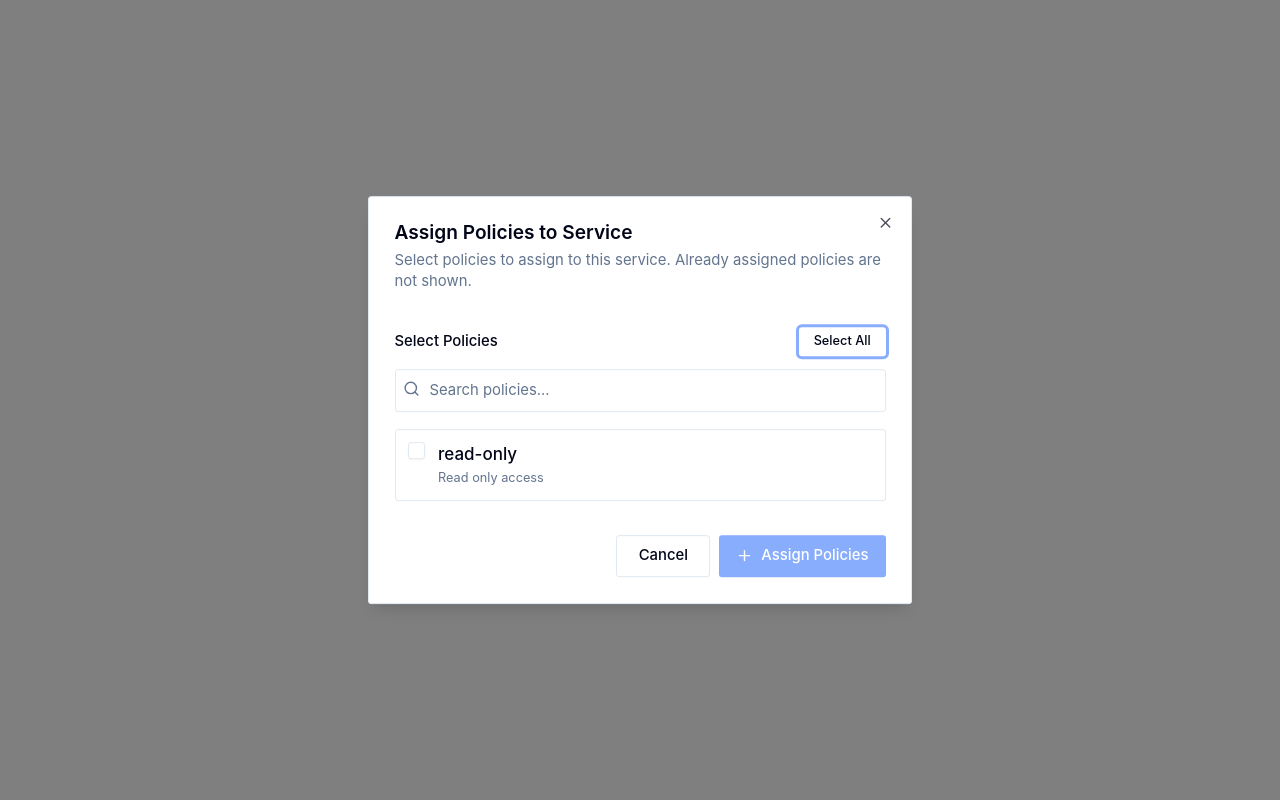
Test: PolicyAssignDialog › filters by search and shows the no-match state
The image size is (1280, 800).
Type "zzz" into the field with placeholder "Search policies..." at point(640, 391), box [394,369,886,412]
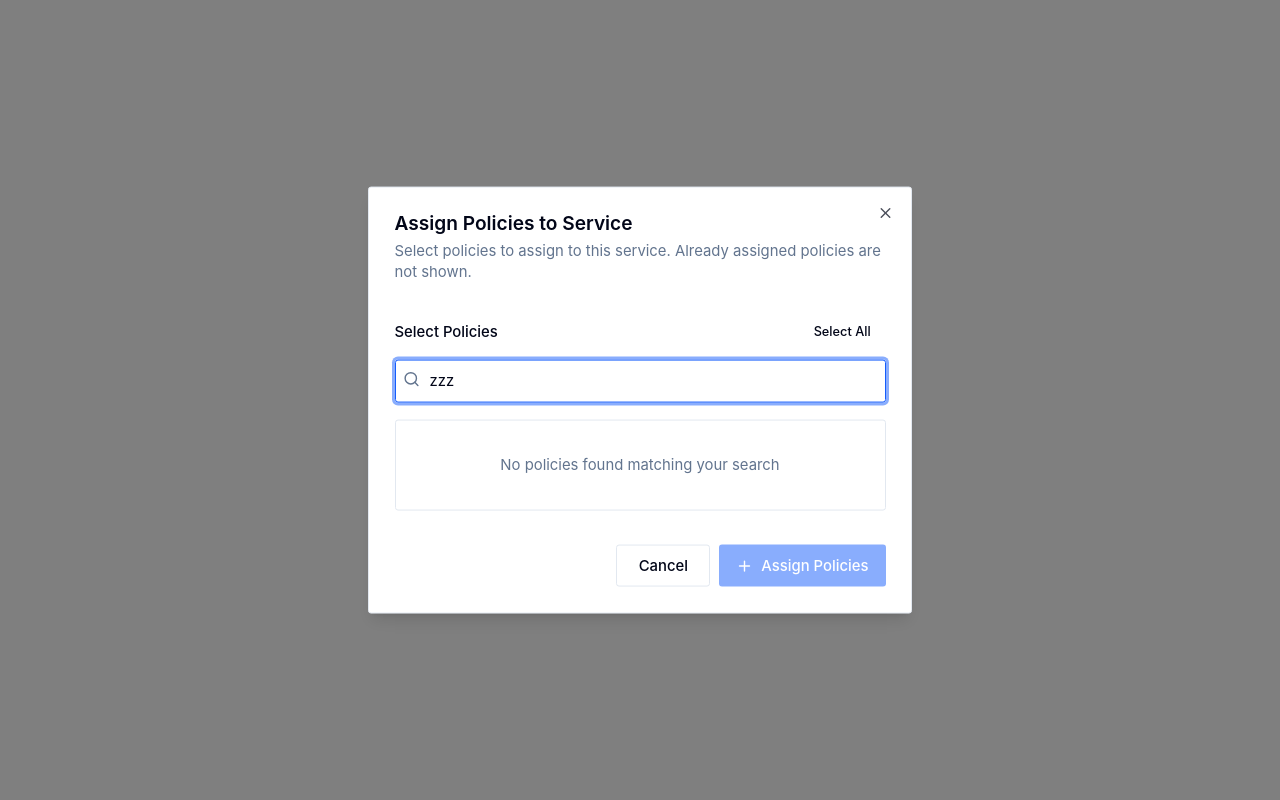
expect the text "No policies found matching your search" is shown: met, box [500,455,780,473]
